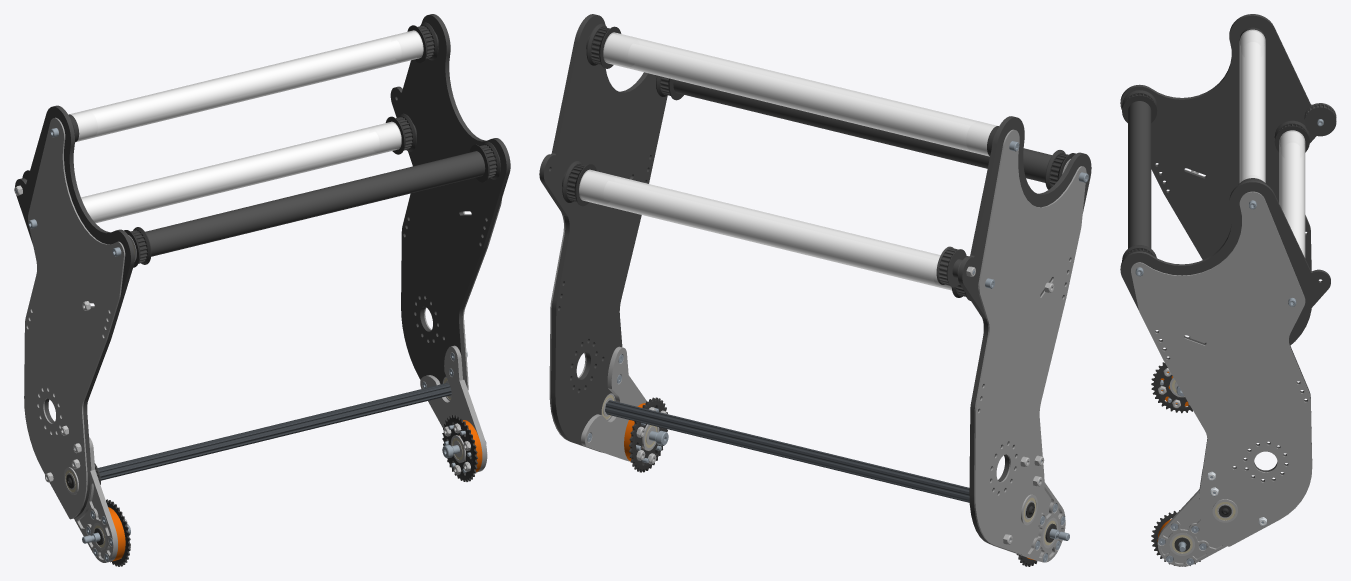
3 renders of one model, left to right at view 1: azimuth 30°, elevation 25°; view 2: azimuth 150°, elevation 25°; view 3: azimuth 270°, elevation 25°, orthographic. The views are drawn at different scales.
Visible parts, largest first — view 1: Side Plate (×2), Side Plate Brace, Deadaxle Tube_17.375_in, Deadaxle Tube_17_in, Silicone Tubing, Churro (19.4 in), Left Pivot Mount, Roller Endcap_HTD_24_Tooth_Epoxy (×3), Right Pivot Mount, 36t Aluminum Sprocket (#25, SplineXL Bore); view 2: Side Plate (×2), Side Plate Brace, Deadaxle Tube_17.375_in, Deadaxle Tube_17_in, Churro (19.4 in), Silicone Tubing, Left Pivot Mount, Roller Endcap_HTD_24_Tooth_Epoxy (×2), Right Pivot Mount, 36t Aluminum Sprocket (#25, SplineXL Bore), 24t HTD Pulley 9.53mm Wide; view 3: Side Plate Brace, Side Plate (×2), Deadaxle Tube_17.375_in, Silicone Tubing, Deadaxle Tube_17_in, Left Pivot Mount, Roller Endcap_HTD_24_Tooth_Epoxy (×2), 36t Aluminum Sprocket (#25, SplineXL Bore) (×2), 24t HTD Pulley 9.53mm Wide, 0.500" Hex ID x 1.125" OD x 0.313" WD (Flanged Bearing), 0.375" ID x 1.125" OD x 0.313" WD (Flanged Bearing).
Part boxes in pixels (x1,y1,x2,y2): Side Plate (×2): (15,14,510,518); Side Plate Brace: (24,117,125,519); Deadaxle Tube_17.375_in: (70,30,423,141); Deadaxle Tube_17_in: (81,121,401,223); Silicone Tubing: (145,151,485,256); Churro (19.4 in): (98,383,451,480); Left Pivot Mount: (420,345,487,472); Roller Endcap_HTD_24_Tooth_Epoxy (×3): (385,22,500,182); Right Pivot Mount: (74,437,117,562); 36t Aluminum Sprocket (#25, SplineXL Bore): (442,415,477,481); Side Plate (×2): (539,14,1091,555); Side Plate Brace: (974,129,1086,555); Deadaxle Tube_17.375_in: (603,32,997,156); Deadaxle Tube_17_in: (579,169,951,290); Churro (19.4 in): (605,400,969,502); Silicone Tubing: (673,79,1051,182); Left Pivot Mount: (581,346,646,461); Roller Endcap_HTD_24_Tooth_Epoxy (×2): (562,23,621,206); Right Pivot Mount: (992,482,1065,562); 36t Aluminum Sprocket (#25, SplineXL Bore): (629,397,667,472); 24t HTD Pulley 9.53mm Wide: (936,246,966,287); Side Plate Brace: (1131,191,1312,546); Side Plate (×2): (1120,14,1330,498); Deadaxle Tube_17.375_in: (1239,29,1265,182); Silicone Tubing: (1128,101,1151,248); Deadaxle Tube_17_in: (1279,130,1305,257); Left Pivot Mount: (1157,470,1226,566); Roller Endcap_HTD_24_Tooth_Epoxy (×2): (1122,90,1309,152); 36t Aluminum Sprocket (#25, SplineXL Bore) (×2): (1151,362,1200,566); 24t HTD Pulley 9.53mm Wide: (1304,103,1336,136); 0.500" Hex ID x 1.125" OD x 0.313" WD (Flanged Bearing): (1212,499,1237,522); 0.375" ID x 1.125" OD x 0.313" WD (Flanged Bearing): (1169,533,1194,555).
Size of the model in its own units: 0.5143 by 0.5285 by 0.264.
